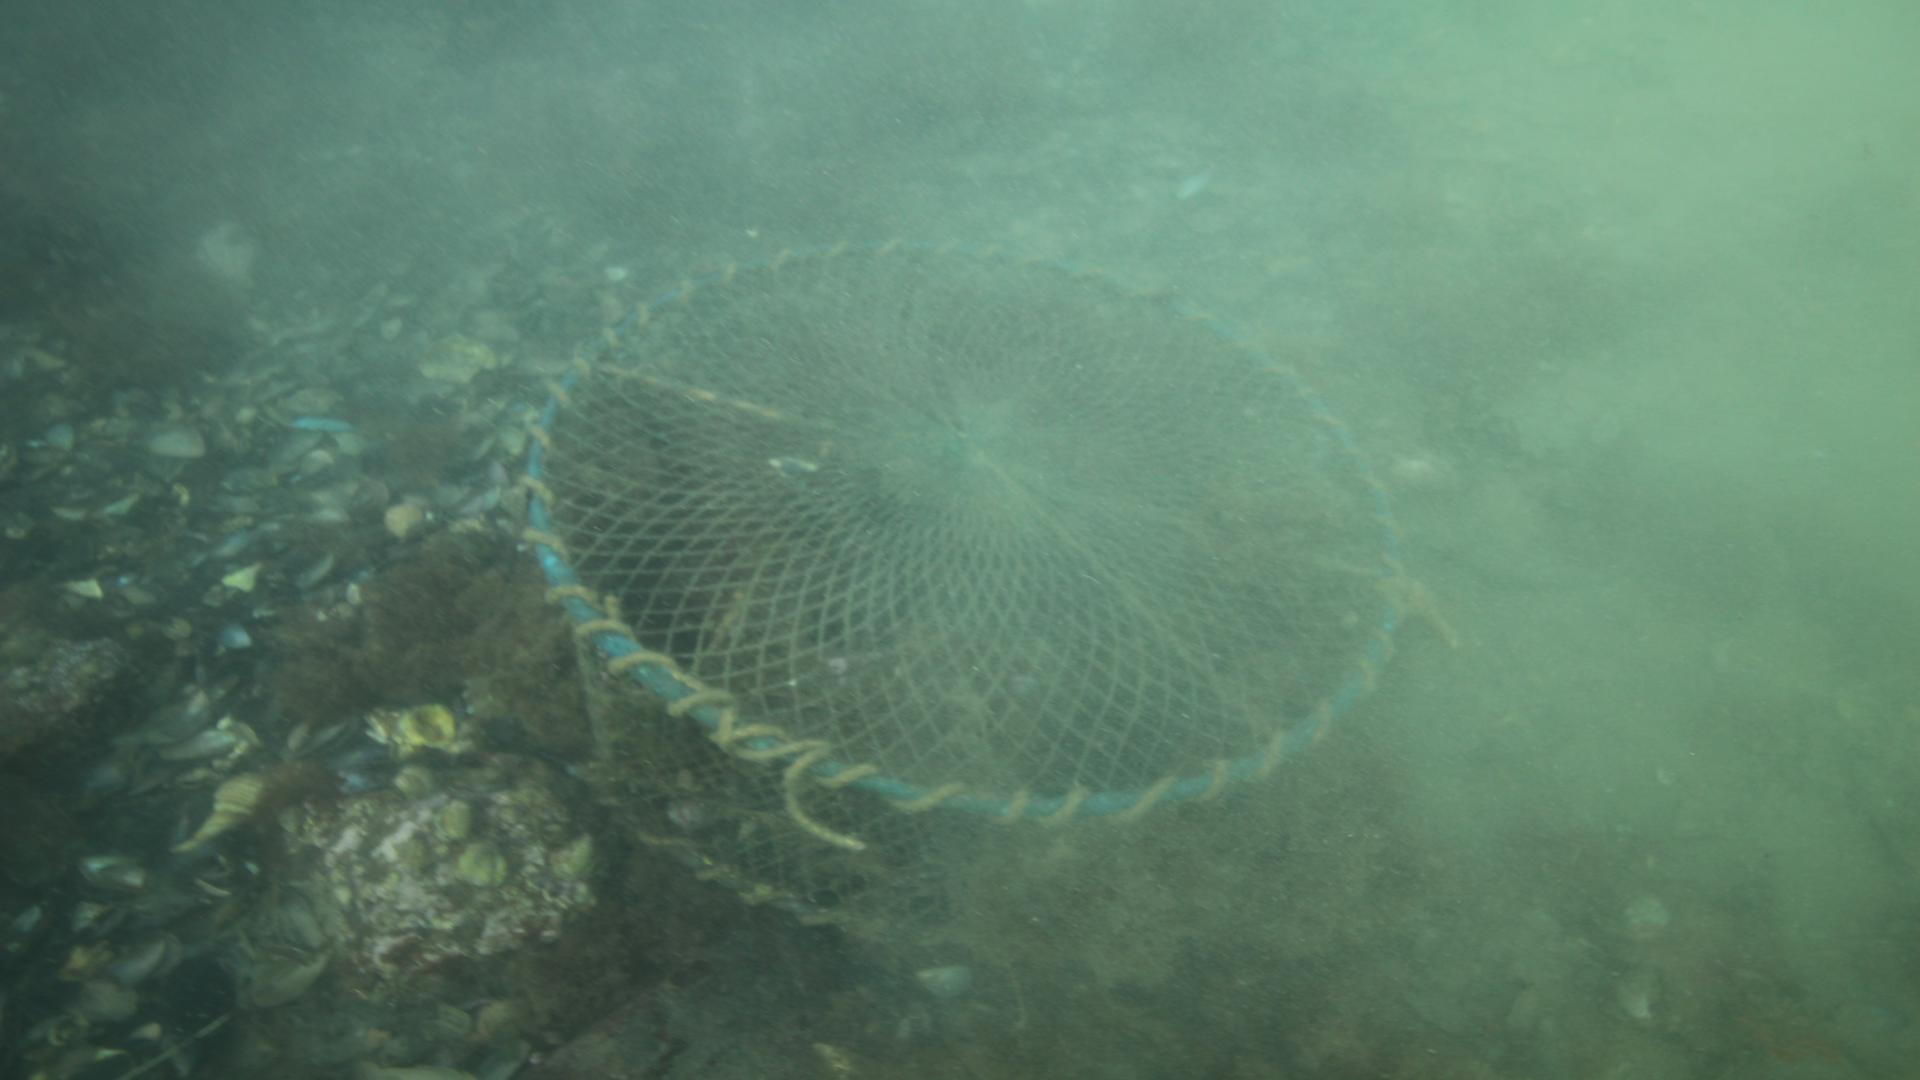circular fish trap: (516, 235, 1403, 945)
